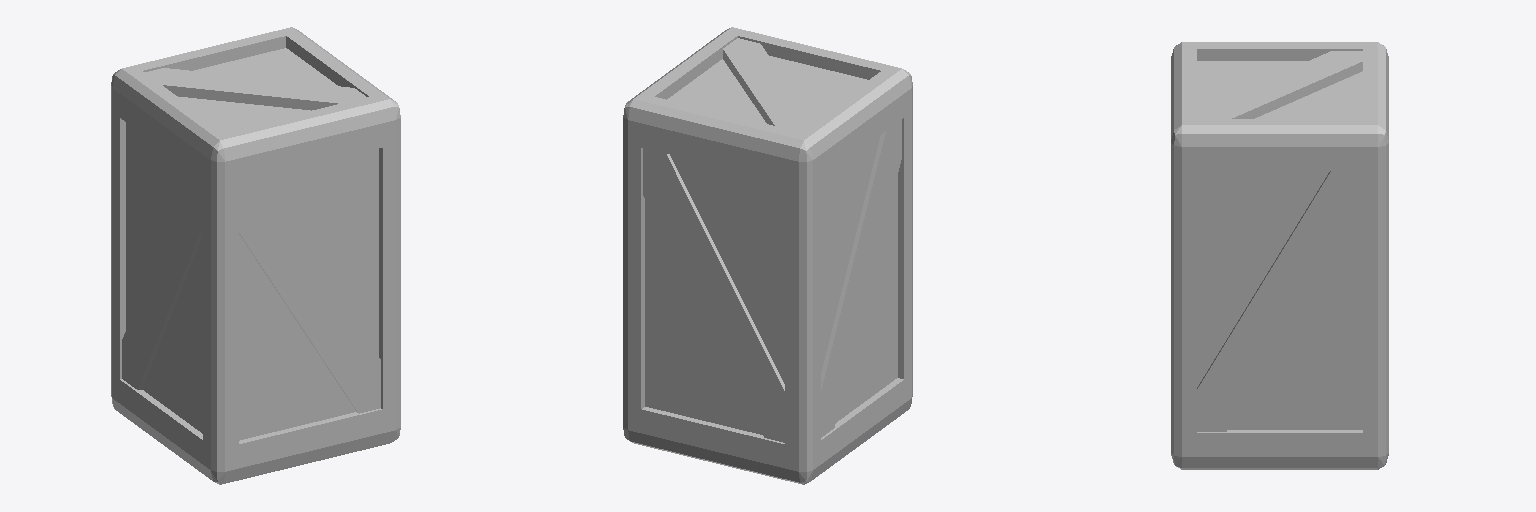
File: crate_3.obj
3 renders of one model, left to right at view 1: azimuth 30°, elevation 25°; view 2: azimuth 150°, elevation 25°; view 3: azimuth 270°, elevation 25°, orthographic.
Parts seen in each view (by area): view 1: cratetall_crates_1; view 2: cratetall_crates_1; view 3: cratetall_crates_1.
Boxes of the visible parts, <box> form: cratetall_crates_1: <box>111,27,400,484</box>; cratetall_crates_1: <box>623,27,912,484</box>; cratetall_crates_1: <box>1171,42,1388,469</box>.
Size of the model in its own units: 11.35 by 19.75 by 11.35.